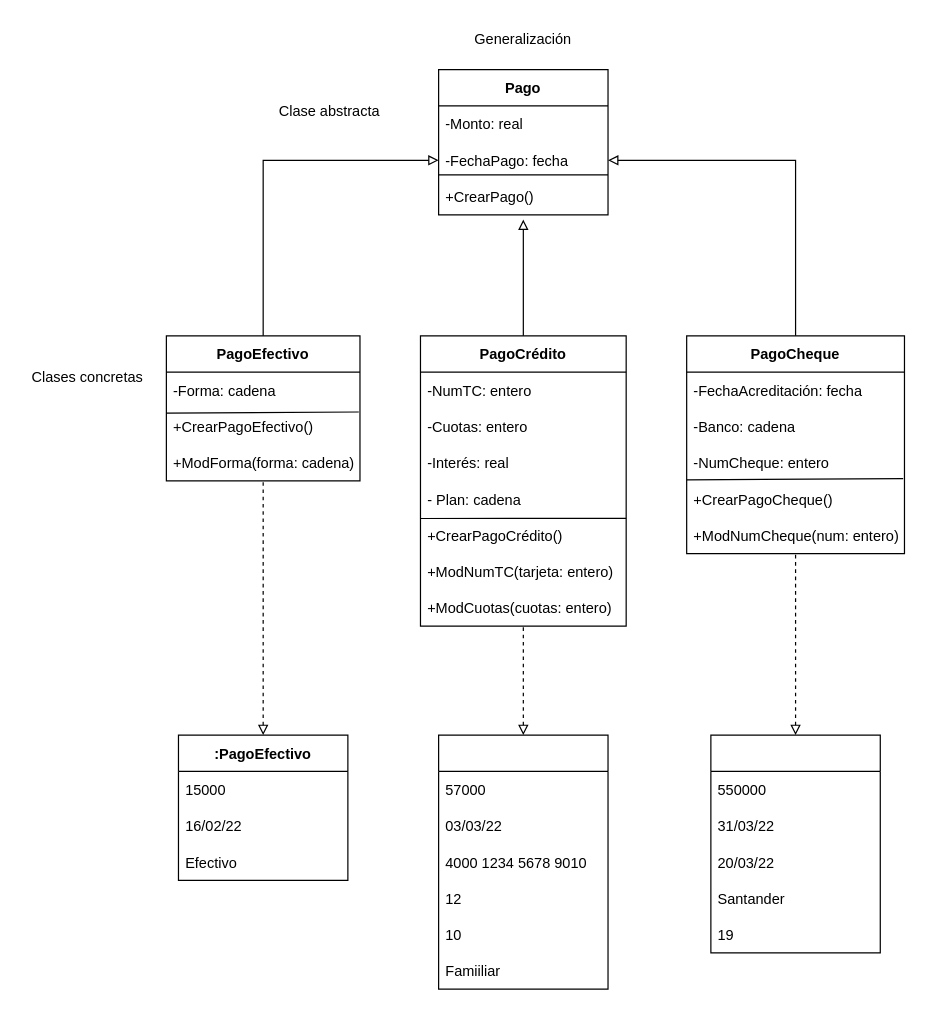
Some shapes in this 926 by 1010 pixel diagram are drawn without their labels. Each missing label, with the box of its shape:
:PagoCheque: (710, 734, 880, 953)
:PagoCrédito: (437, 734, 608, 989)
